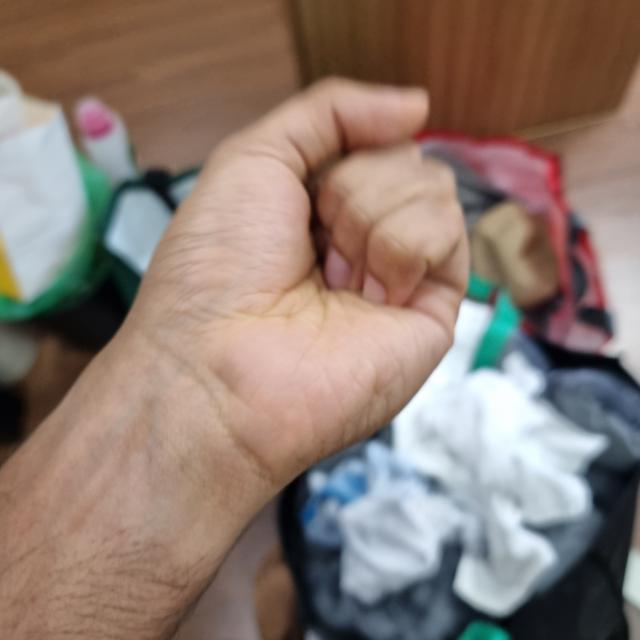Rock: (96, 76, 471, 480)
